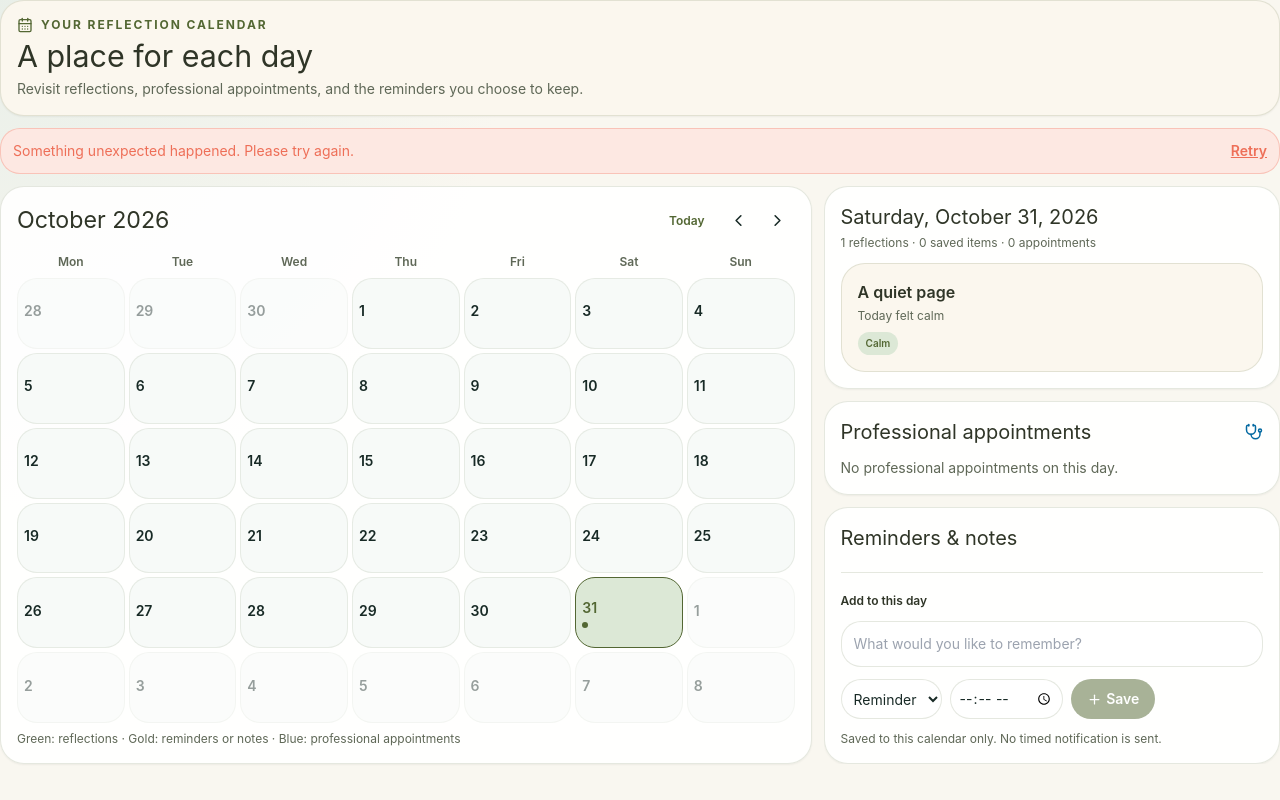
it: CalendarView › keeps reflections visible when saved calendar items fail to load and allows retry
Expected: the message shows "Something unexpected happened.", [13,142,354,159]
Expected: the link "A quiet page" is shown, [858,282,955,302]
Click the button "Retry" at {"x": 1249, "y": 151}, box [1231,141,1267,161]
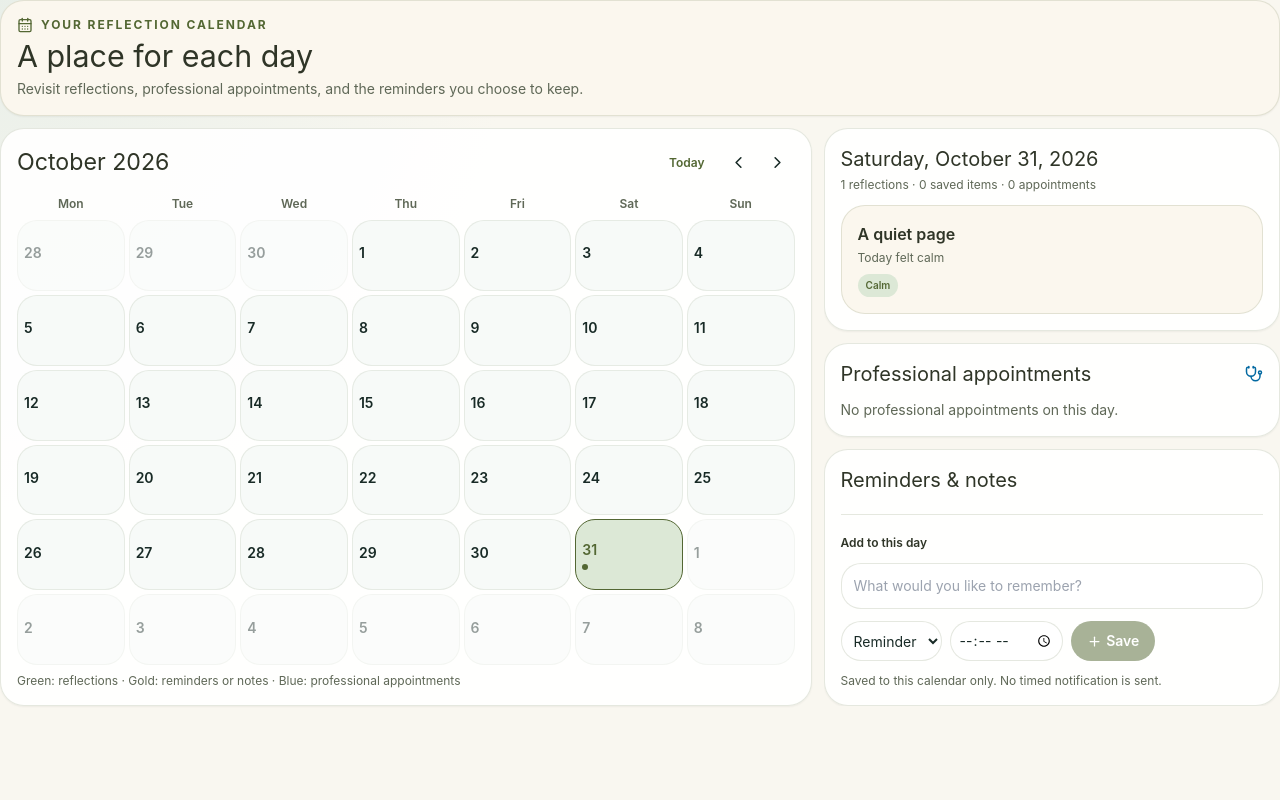
Now the message "Something unexpected happened. Please try again. Retry" is gone
